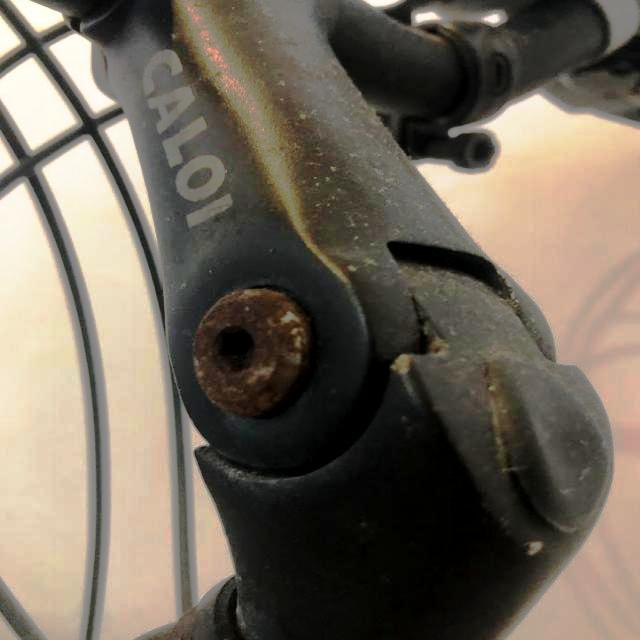Corrosion: (193, 288, 315, 418)
